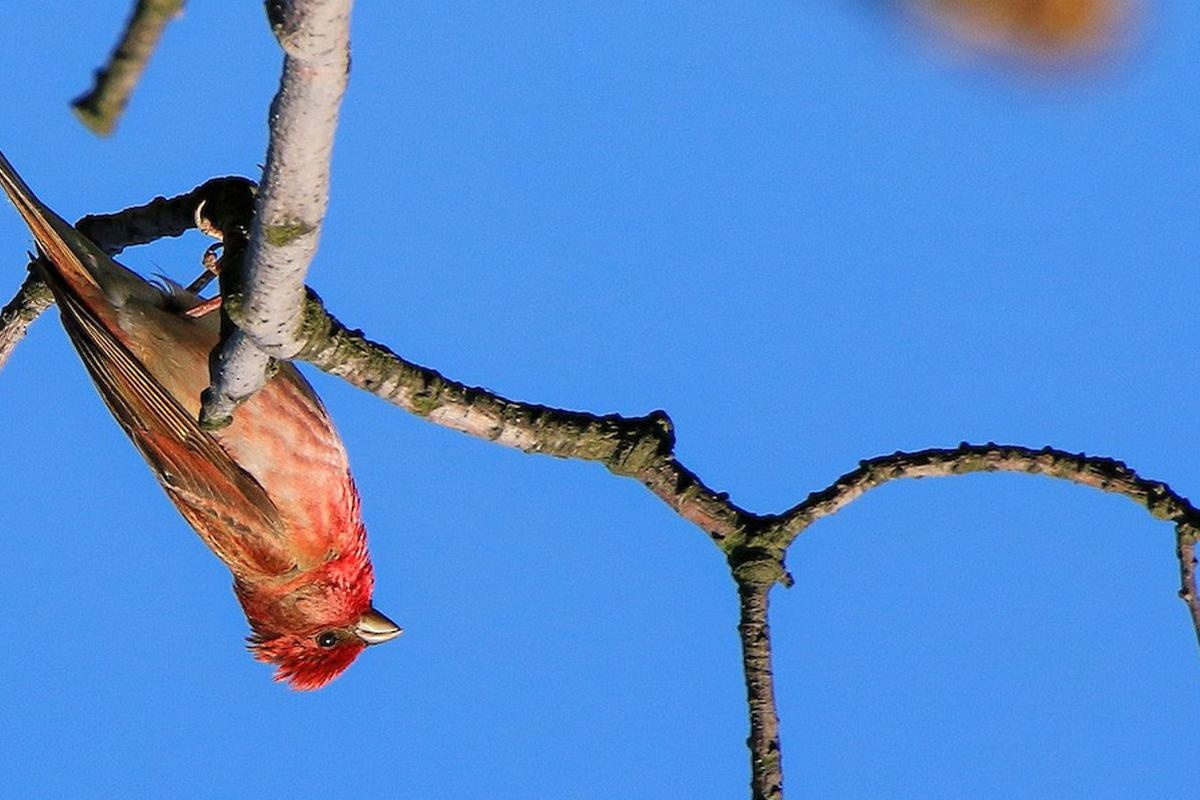rosefinch: (18, 206, 408, 691)
